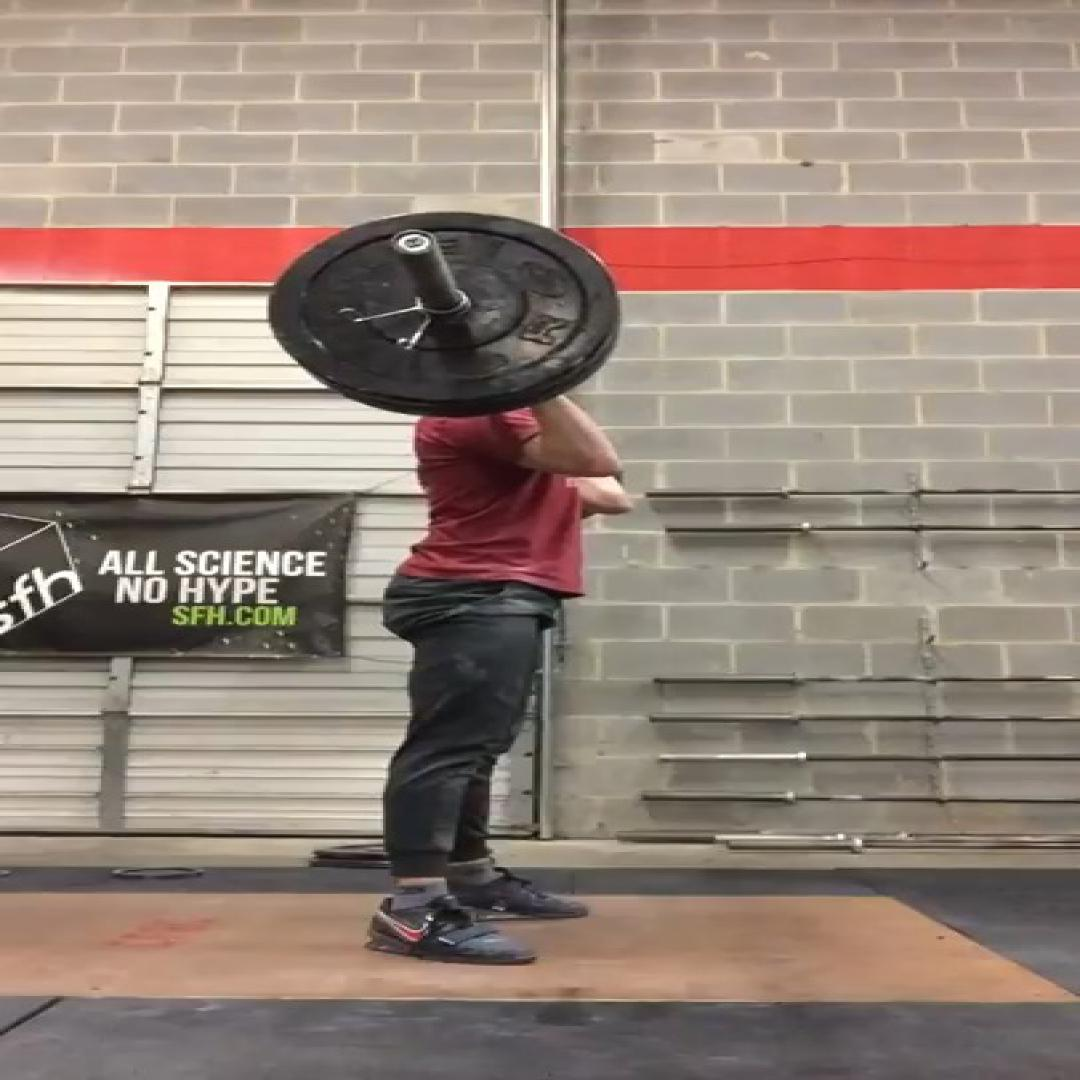Bar: (388, 229, 436, 255)
Barbell: (269, 210, 617, 400)
